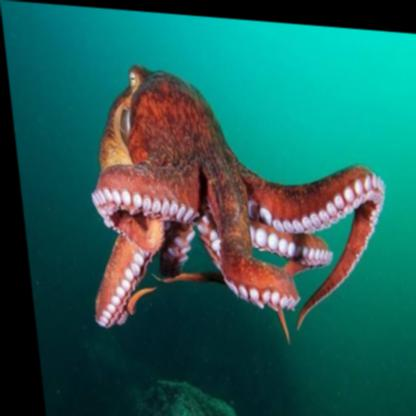Squid: (64, 54, 396, 350)
